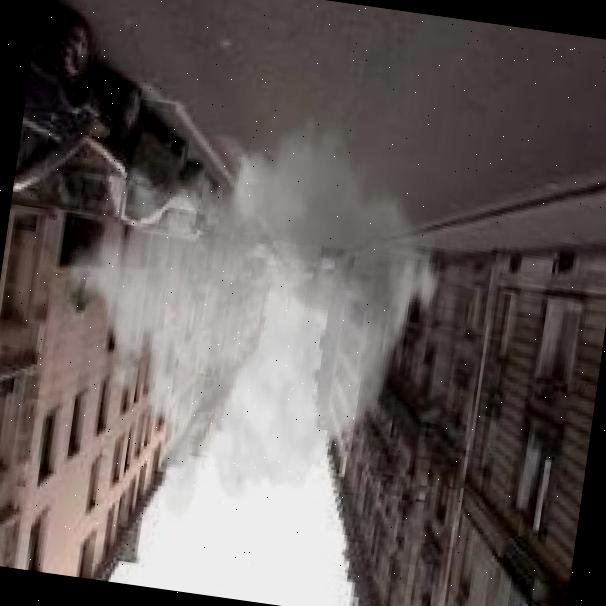smoke: (35, 79, 466, 552)
